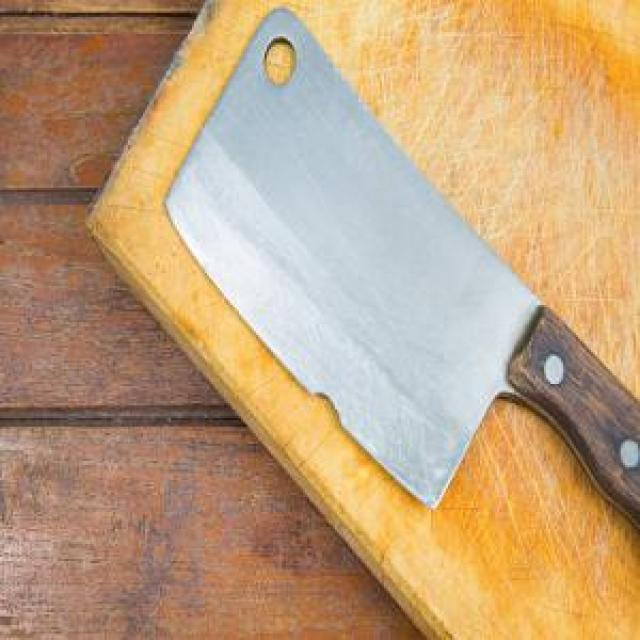knife: (164, 4, 640, 516)
